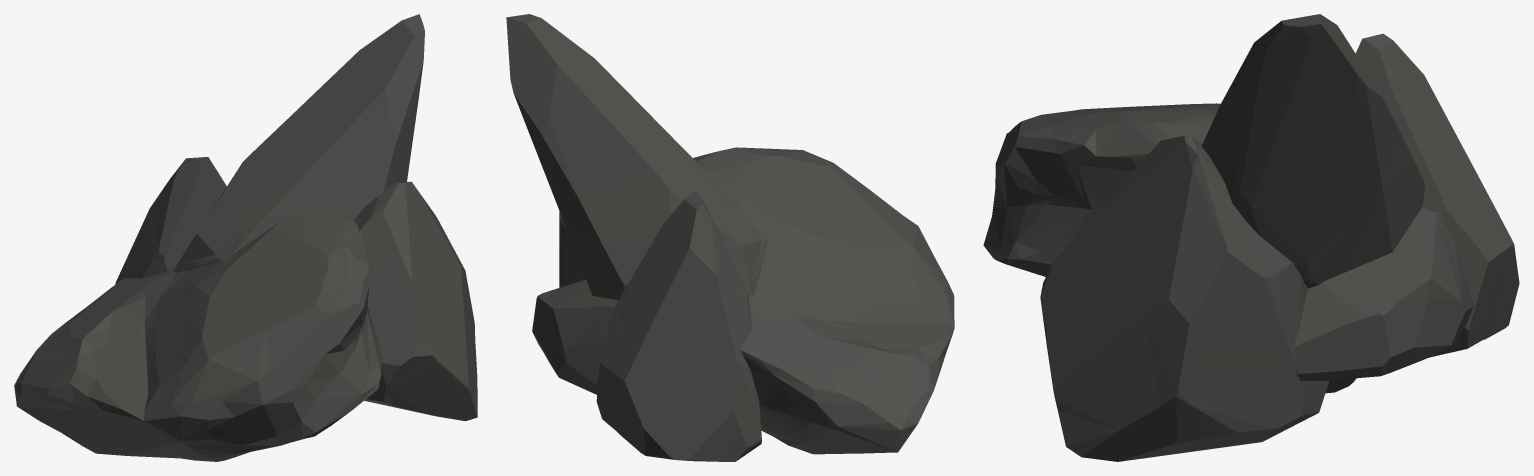
File: SM_Env_Rock_09.fbx
3 views of the same model, side by side, from view 1: azimuth 30°, elevation 25°; view 2: azimuth 150°, elevation 25°; view 3: azimuth 270°, elevation 25° (orthographic). The views are drawn at different scales.
Visible parts, largest first — view 1: SM_Env_Rock_09; view 2: SM_Env_Rock_09; view 3: SM_Env_Rock_09.
Part boxes in pixels (x1,y1,x2,y2): SM_Env_Rock_09: (14,14,477,461); SM_Env_Rock_09: (506,14,954,461); SM_Env_Rock_09: (983,14,1519,461).
Size of the model in its own units: 956 by 806 by 817.
1 material, 1 textured.
